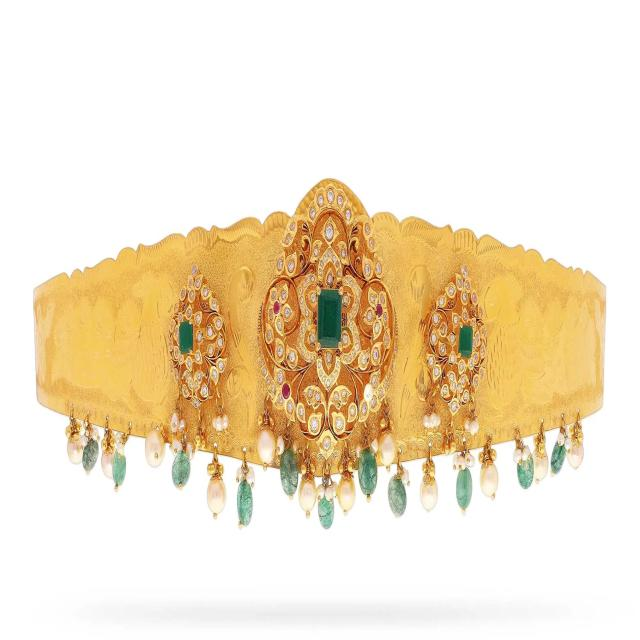missing gem: (365, 386, 372, 401), (440, 324, 447, 336)
